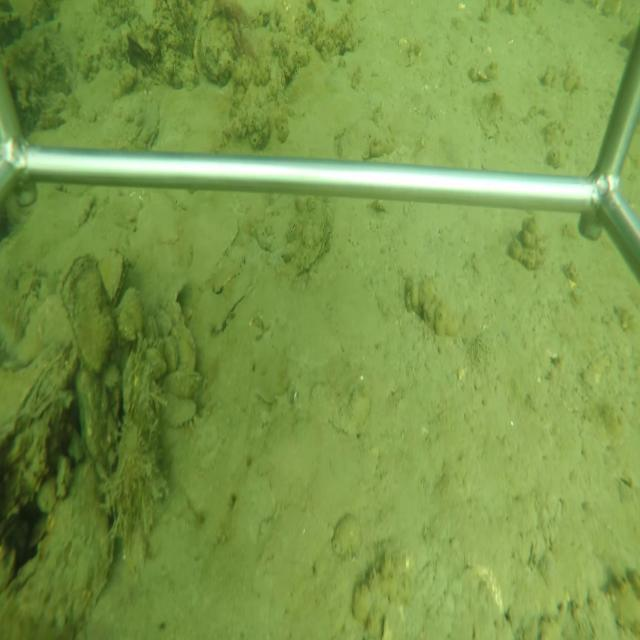Oyster-Closed: (2, 454, 116, 638), (57, 250, 118, 381), (86, 88, 161, 147)
Oyster-Indeterminate: (193, 5, 242, 89), (97, 247, 130, 308)
